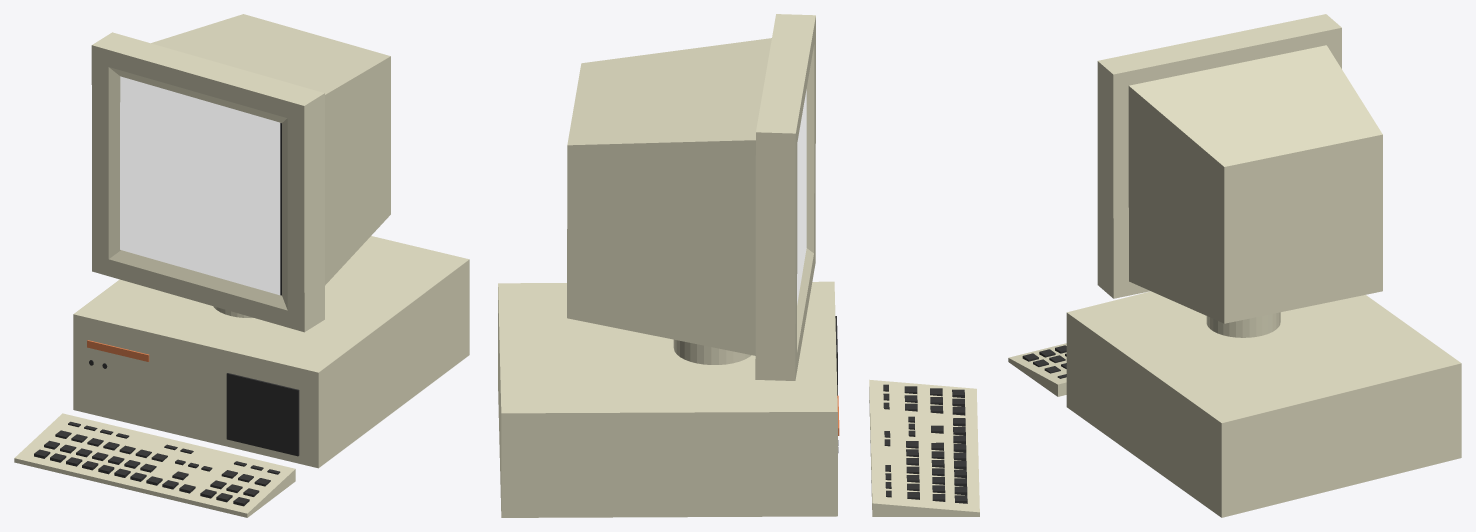
The picture shows the model from 3 angles, left to right: view 1: azimuth 30°, elevation 25°; view 2: azimuth 150°, elevation 25°; view 3: azimuth 270°, elevation 25°; orthographic projection. The views are drawn at different scales.
Parts seen in each view (by area): view 1: Box20179, Box20242, Screen, Box20182, Box20181, Box20180; view 2: Box20242, Box20179, Box20182, Screen, Cylinder003; view 3: Box20242, Box20179, Box20182, Cylinder003.
Part boxes in pixels (x1,y1,x2,y2): Box20179: (73,236,469,468); Box20242: (91,14,390,332); Screen: (120,76,280,295); Box20182: (14,413,295,517); Box20181: (226,373,299,456); Box20180: (87,340,149,361); Box20242: (567,14,815,380); Box20179: (498,281,837,517); Box20182: (869,379,979,516); Screen: (797,89,806,304); Cylinder003: (673,339,751,364); Box20242: (1097,14,1382,323); Box20179: (1066,291,1461,517); Box20182: (1008,343,1066,396); Cylinder003: (1206,312,1280,337).
Bounding box in the file's own units: 0.6944 × 0.5244 × 0.6147.
